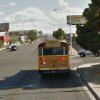Bus: (34, 37, 71, 77)
